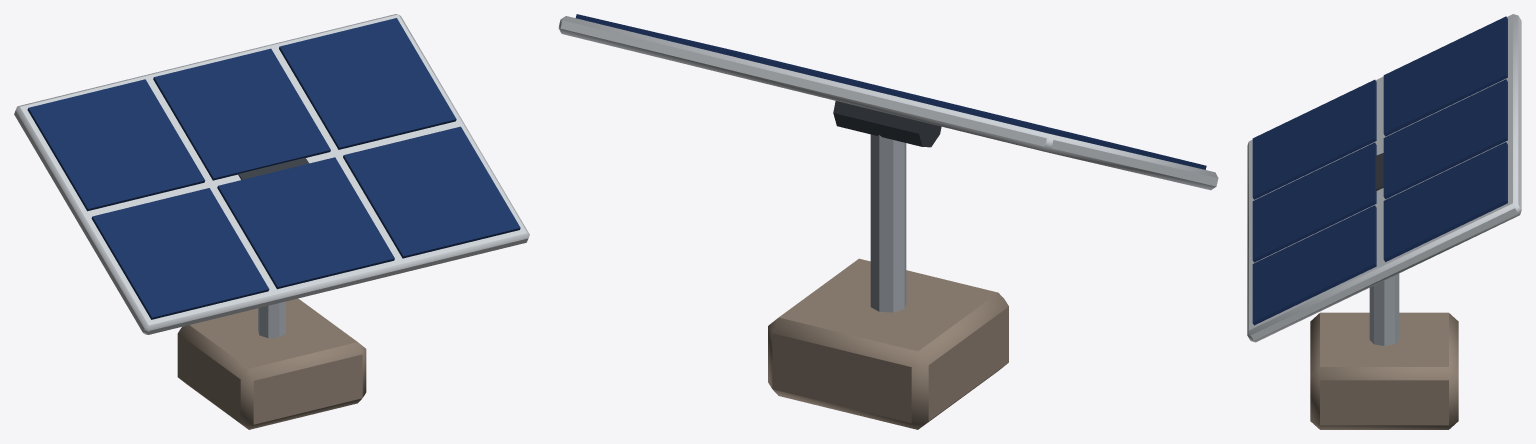
File: solar_panel_single.glb
3 renders of one model, left to right at view 1: azimuth 30°, elevation 25°; view 2: azimuth 150°, elevation 25°; view 3: azimuth 270°, elevation 25°, orthographic. The views are drawn at different scales.
Parts seen in each view (by area): view 1: solar_panel_single; view 2: solar_panel_single; view 3: solar_panel_single.
Part boxes in pixels (x1,y1,x2,y2): solar_panel_single: [14, 14, 529, 429]; solar_panel_single: [558, 14, 1218, 429]; solar_panel_single: [1247, 14, 1521, 429].
Bounding box in the file's own units: 0.92 × 0.6556 × 0.554.
